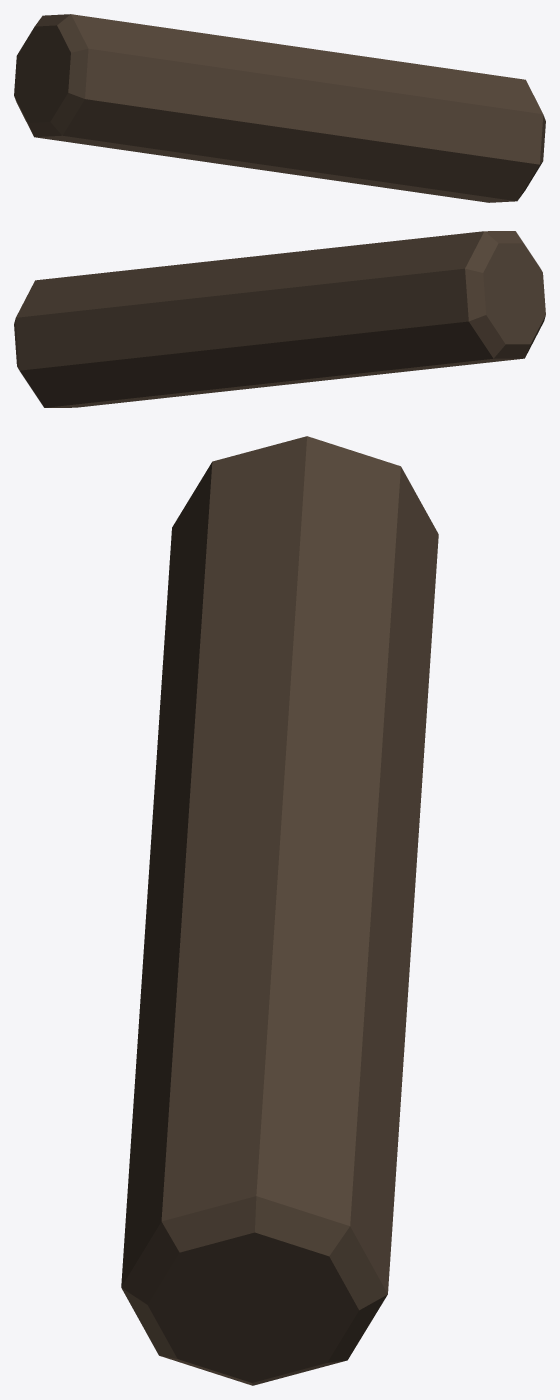
File: Fireplace_Rustic_Log4.FBX
3 renders of one model, top to bottom at view 1: azimuth 30°, elevation 25°; view 2: azimuth 150°, elevation 25°; view 3: azimuth 270°, elevation 25°, orthographic. The views are drawn at different scales.
Visible parts, largest first — view 1: Fireplace_Rustic_Log4; view 2: Fireplace_Rustic_Log4; view 3: Fireplace_Rustic_Log4.
Part boxes in pixels (left/top/right/bottom): Fireplace_Rustic_Log4: left=14, top=14, right=545, bottom=202; Fireplace_Rustic_Log4: left=14, top=231, right=545, bottom=407; Fireplace_Rustic_Log4: left=121, top=436, right=438, bottom=1385.
Bounding box in the file's own units: 41.6 × 22.44 × 11.64.
1 material, 1 textured.
